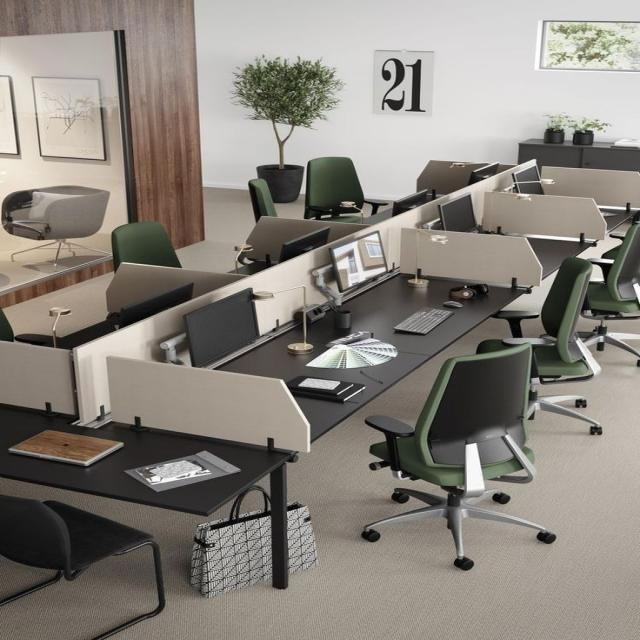bag: (181, 492, 326, 612)
book: (126, 451, 245, 492), (282, 371, 358, 406)
chair: (369, 357, 555, 587), (8, 498, 168, 631), (493, 257, 626, 382), (2, 180, 112, 256)
